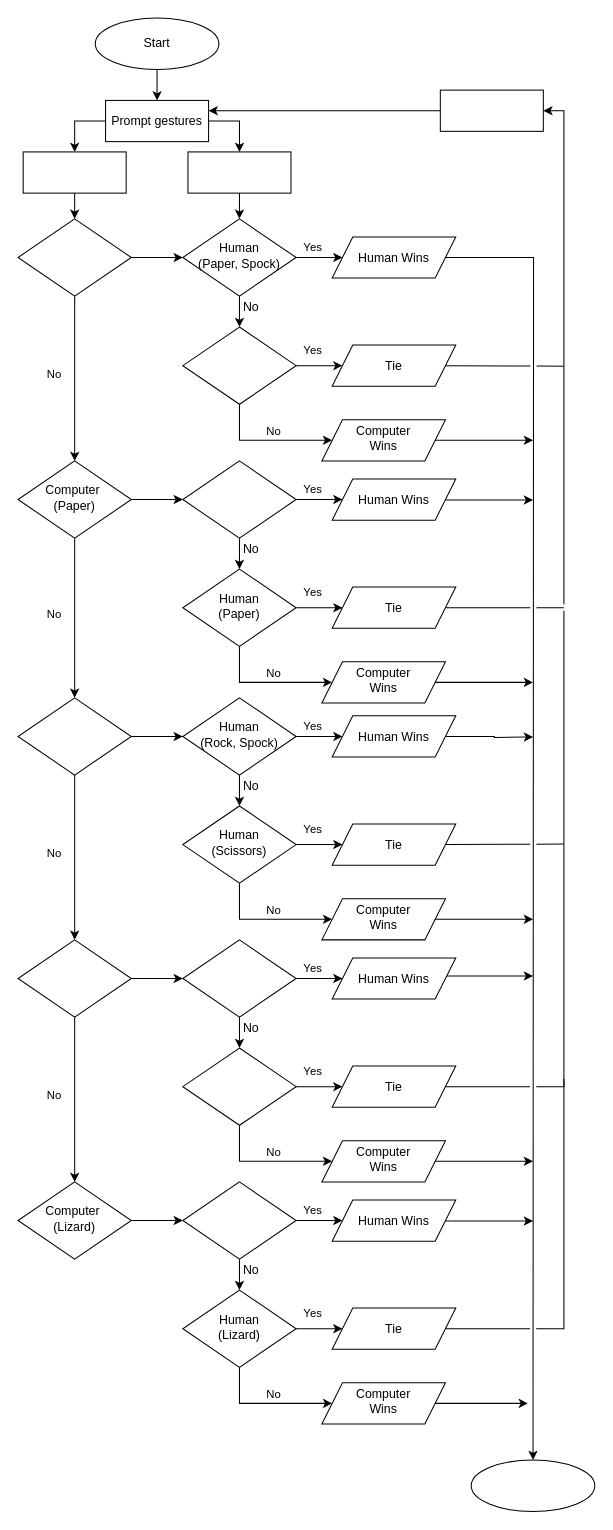
This 613x1530 diagram has some shape labels left out. Here are the shapes that lost their labels. From the top down, the centre of each, then its label:
At point (491, 110): "No winner Replay round".
At point (74, 172): "get_computer gesture".
At point (239, 172): "get_player gesture".
At point (74, 257): "Computer (Rock)".
At point (239, 365): "Human (Rock)".
At point (239, 499): "Human (Scissors, Lizard)".
At point (74, 736): "Computer (Scissors)".
At point (74, 978): "Computer (Spock)".
At point (239, 978): "Human (Lizard, Paper)".
At point (239, 1086): "Human (Spock)".
At point (239, 1220): "Human (Scissors, Rock)".
At point (532, 1485): "End".
